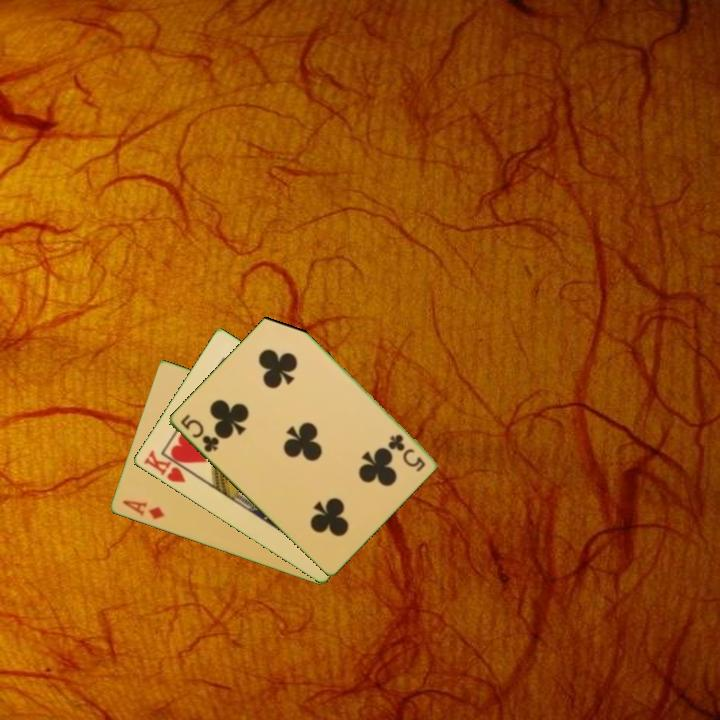5c: (176, 411, 222, 455), (385, 431, 428, 474)
Ad: (119, 496, 167, 522)
Kh: (140, 447, 196, 486)
